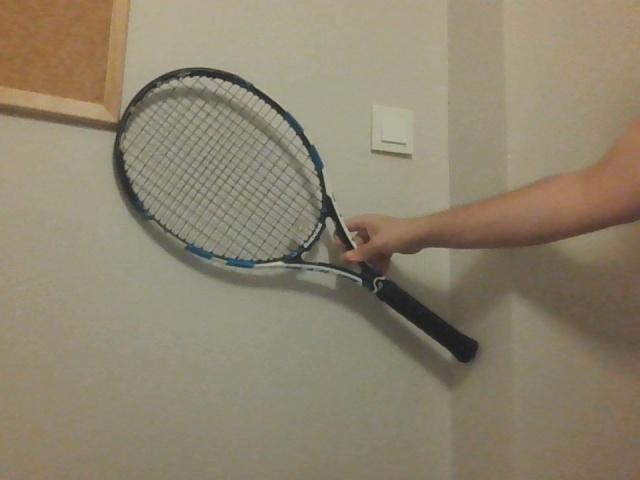Tennis-Racket: (111, 60, 482, 374)
